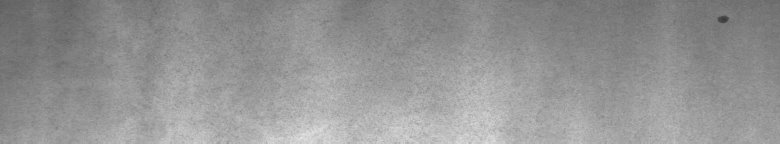fi: (716, 8, 733, 31)
